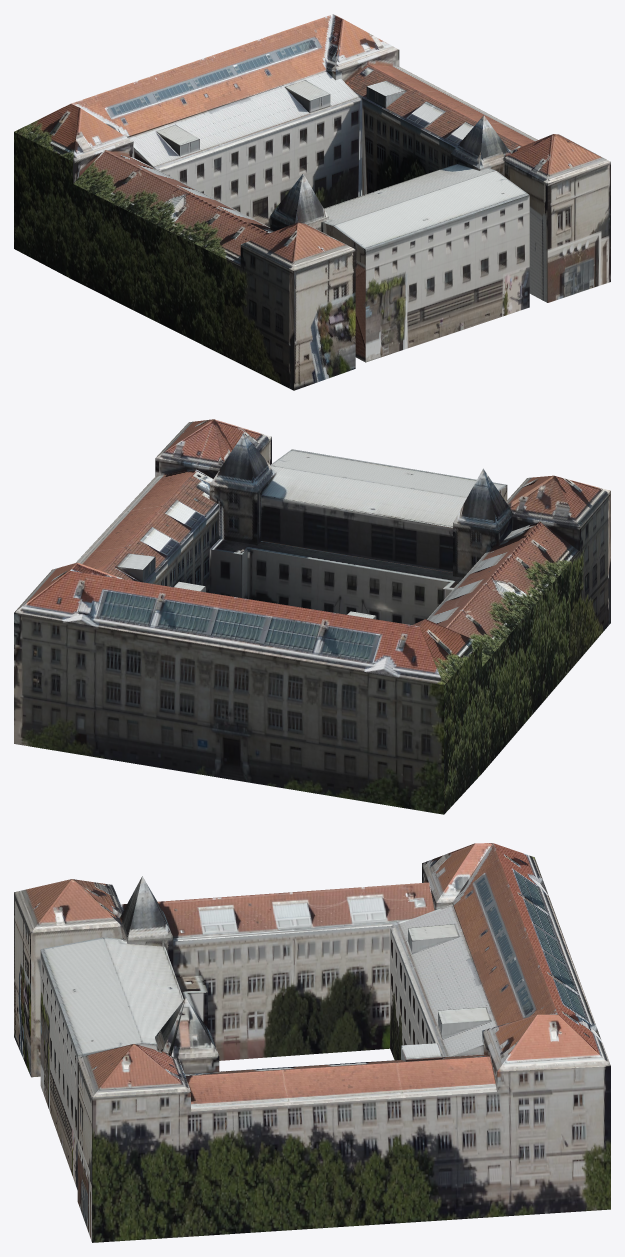
3 renders of one model, top to bottom at view 1: azimuth 30°, elevation 25°; view 2: azimuth 150°, elevation 25°; view 3: azimuth 270°, elevation 25°, orthographic. The views are drawn at different scales.
Parts seen in each view (by area): view 1: Z_UP; view 2: Z_UP; view 3: Z_UP.
Part boxes in pixels (x1,y1,x2,y2): Z_UP: [14, 14, 610, 390]; Z_UP: [14, 419, 610, 814]; Z_UP: [14, 843, 610, 1242].
Size of the model in its own units: 74.75 by 28.21 by 77.25.
Materials: 2 (1 with a texture image).
